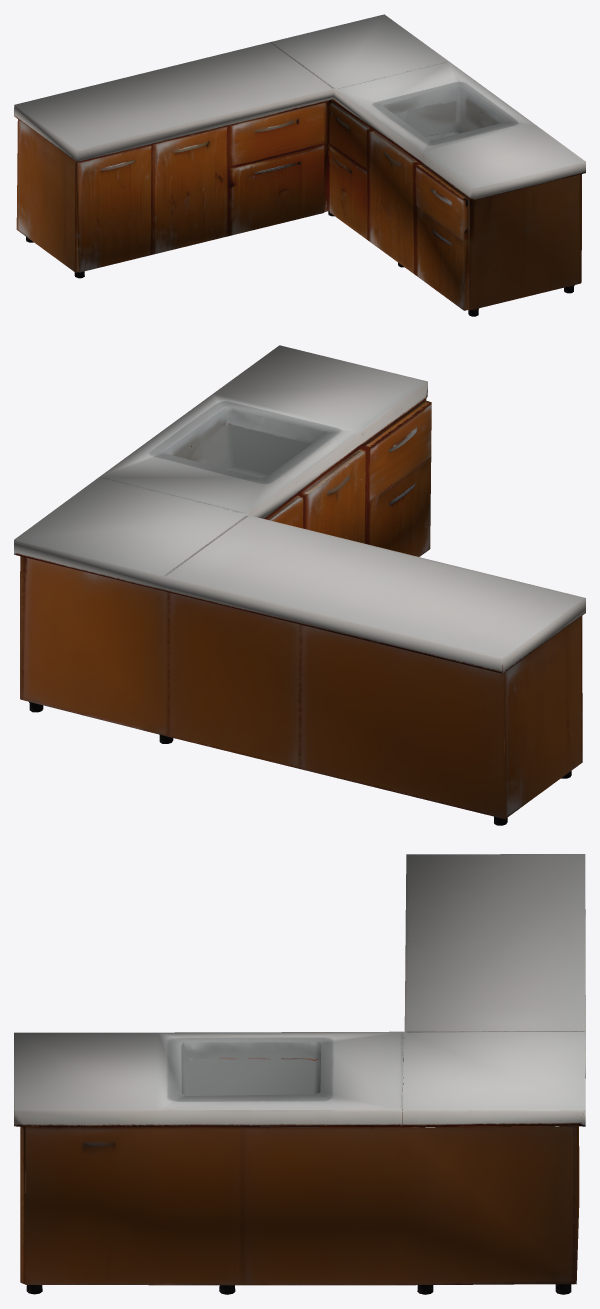
File: stage4_sink.fbx
3 renders of one model, top to bottom at view 1: azimuth 30°, elevation 25°; view 2: azimuth 150°, elevation 25°; view 3: azimuth 270°, elevation 25°, orthographic. The views are drawn at different scales.
Visible parts, largest first — view 1: stage4_sink; view 2: stage4_sink; view 3: stage4_sink.
Boxes of the visible parts, x1=… form: stage4_sink: x1=14, y1=14, x2=585, y2=316; stage4_sink: x1=14, y1=345, x2=585, y2=825; stage4_sink: x1=14, y1=854, x2=585, y2=1294.
Bounding box in the file's own units: 2.49 × 0.8632 × 2.34.
